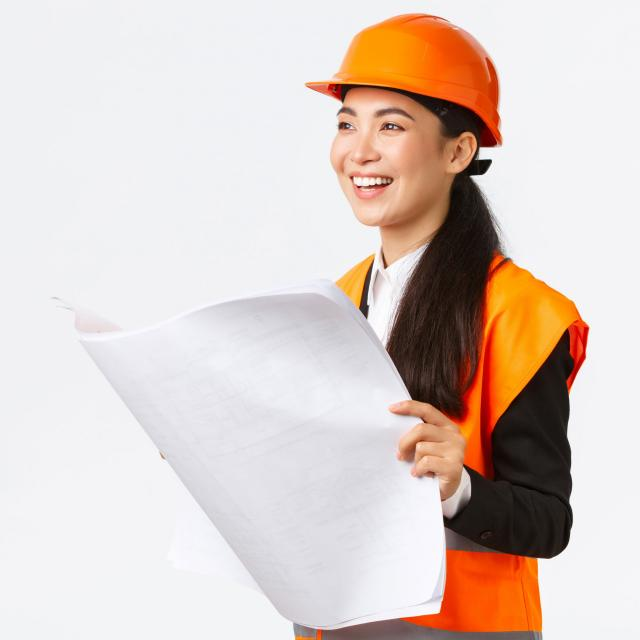Reflective-Jacket: (329, 235, 582, 640)
Safety-Helmet: (305, 10, 509, 144)
